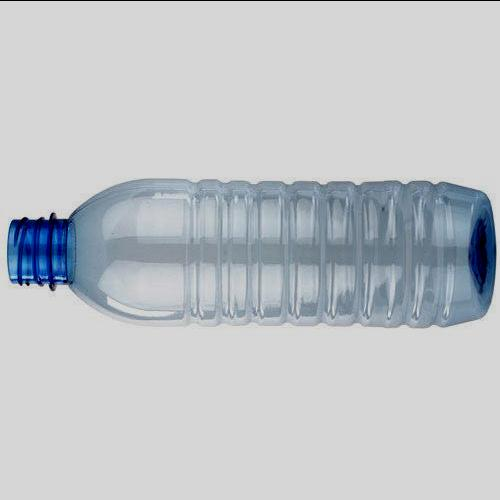bottle: (250, 168, 252, 342)
